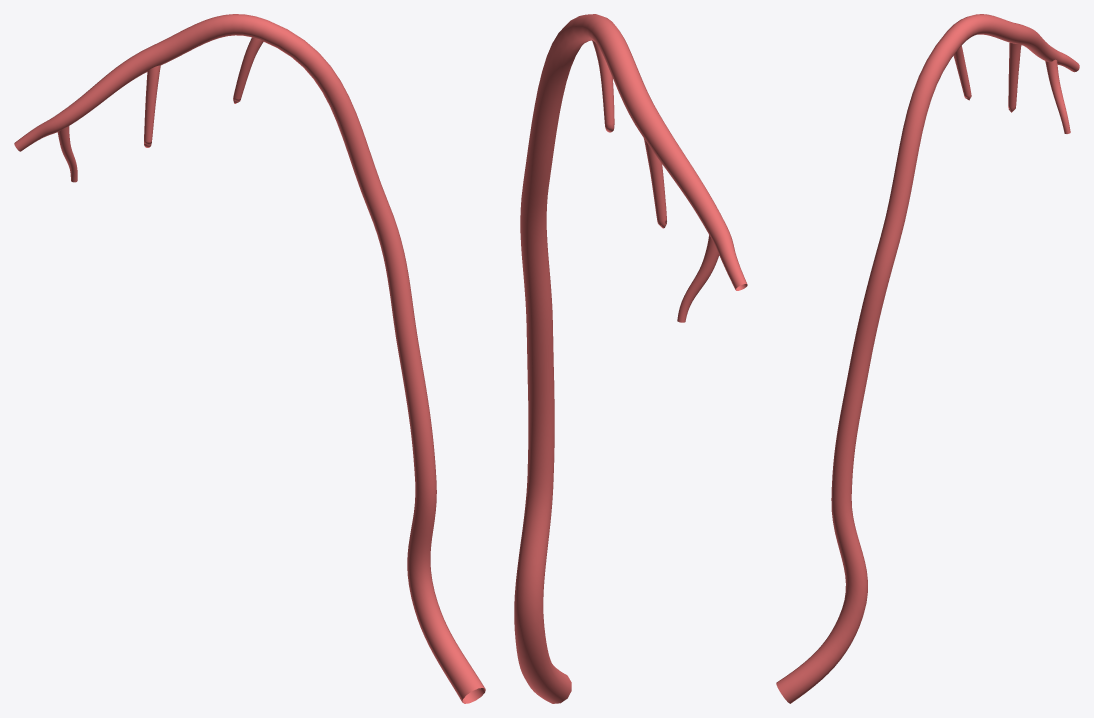
File: Inferior_suprarenal_artery.r_BezierCurve.403.glb
3 renders of one model, left to right at view 1: azimuth 30°, elevation 25°; view 2: azimuth 150°, elevation 25°; view 3: azimuth 270°, elevation 25°, orthographic. The views are drawn at different scales.
Visible parts, largest first — view 1: Inferior_suprarenal_artery.r_BezierCurve.403; view 2: Inferior_suprarenal_artery.r_BezierCurve.403; view 3: Inferior_suprarenal_artery.r_BezierCurve.403.
Part boxes in pixels (x1,y1,x2,y2): Inferior_suprarenal_artery.r_BezierCurve.403: (14, 14, 485, 703); Inferior_suprarenal_artery.r_BezierCurve.403: (514, 14, 747, 703); Inferior_suprarenal_artery.r_BezierCurve.403: (776, 14, 1079, 703).
Bounding box in the file's own units: 0.0272 × 0.0533 × 0.0236.
